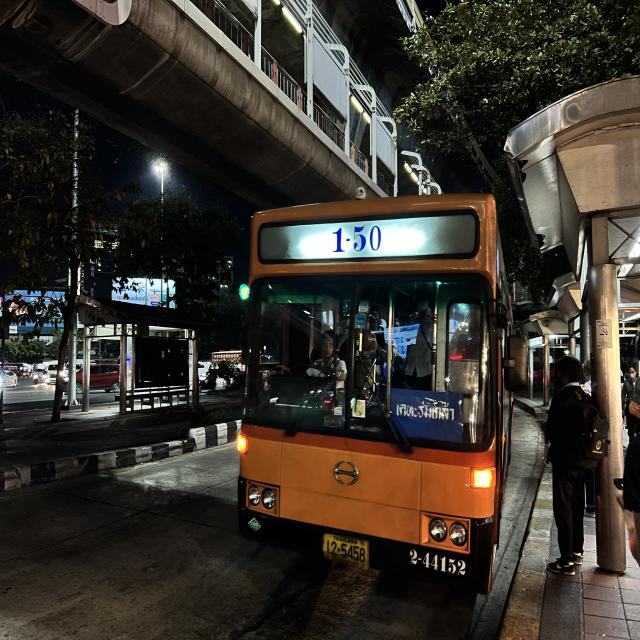BMTA-bus: (236, 194, 509, 597)
Bus Line Number: (325, 224, 388, 258)
Bus Side Number: (405, 549, 469, 579)
Destination Sign: (390, 388, 463, 441)
